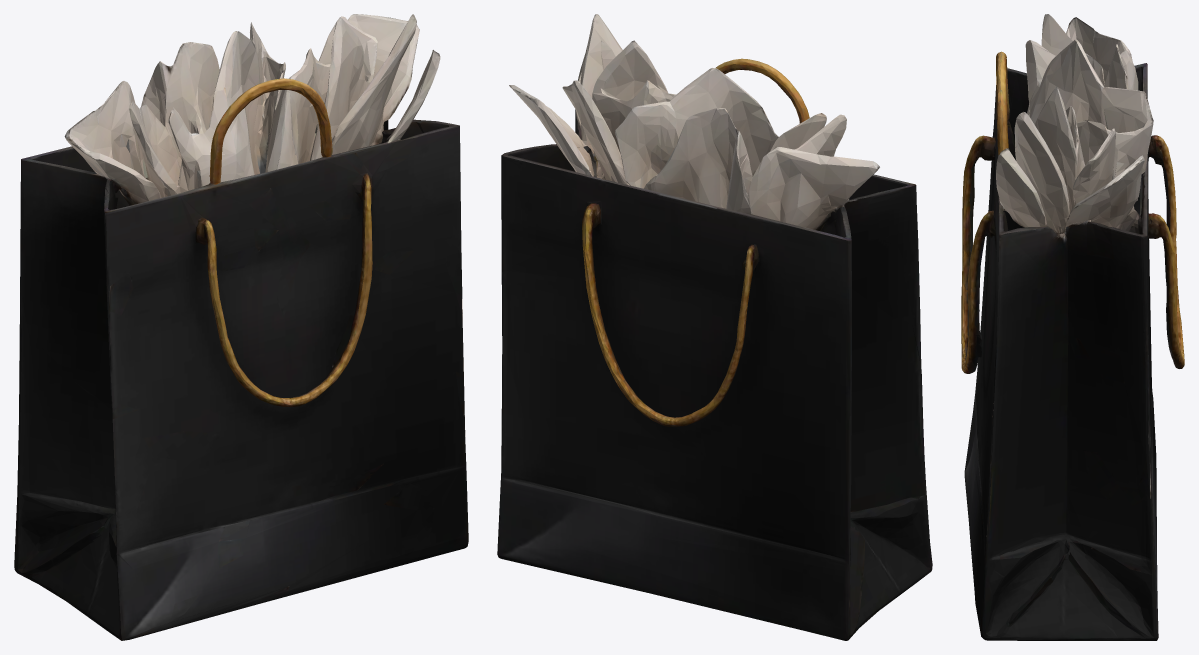
The picture shows the model from 3 angles, left to right: view 1: azimuth 30°, elevation 25°; view 2: azimuth 150°, elevation 25°; view 3: azimuth 270°, elevation 25°; orthographic projection. The views are drawn at different scales.
Parts seen in each view (by area): view 1: geometry_0; view 2: geometry_0; view 3: geometry_0.
Part boxes in pixels (<box>): geometry_0: <box>14,14,468,640</box>; geometry_0: <box>497,14,932,640</box>; geometry_0: <box>961,14,1184,640</box>.
Bounding box in the file's own units: 0.7505 × 0.9994 × 0.3939.
Materials: 1 (1 with a texture image).
